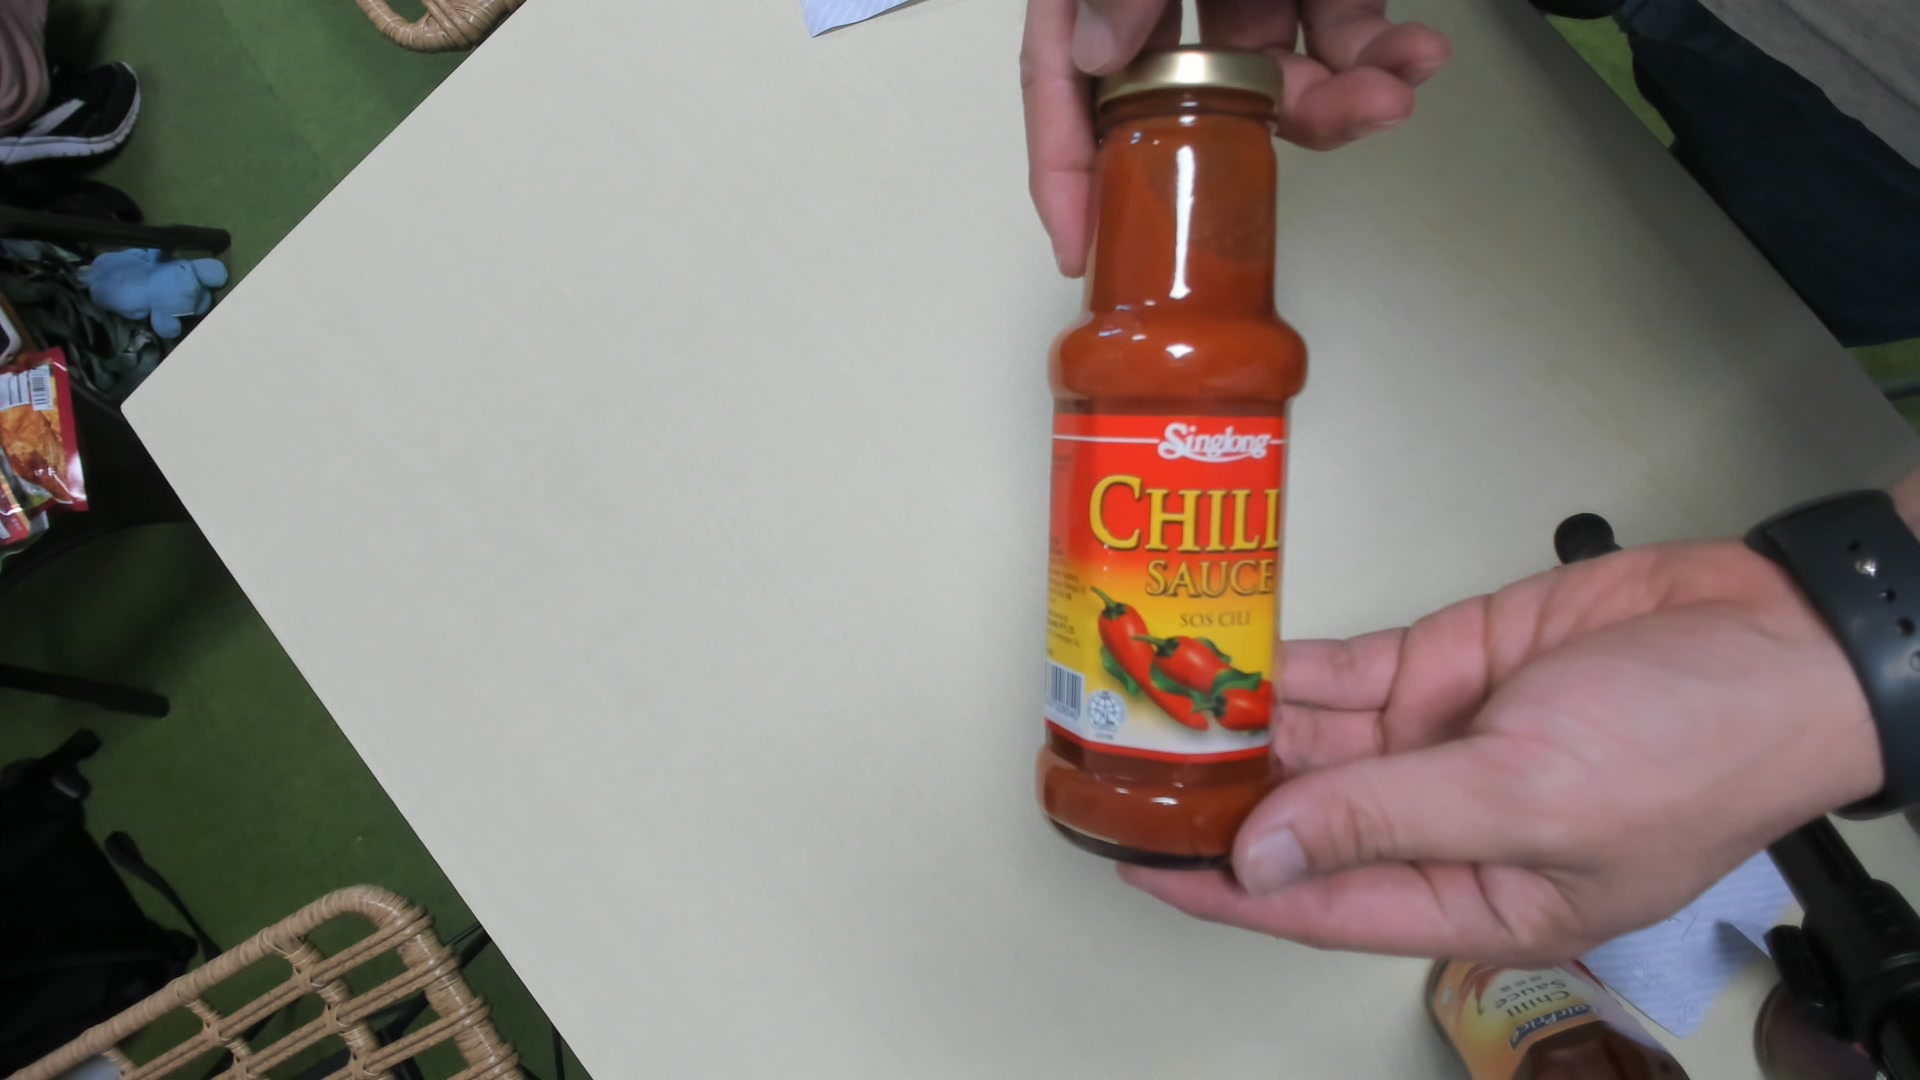KetchupChillSauce_200-299g_Halal_NonHealthy: (1042, 46, 1309, 872)
